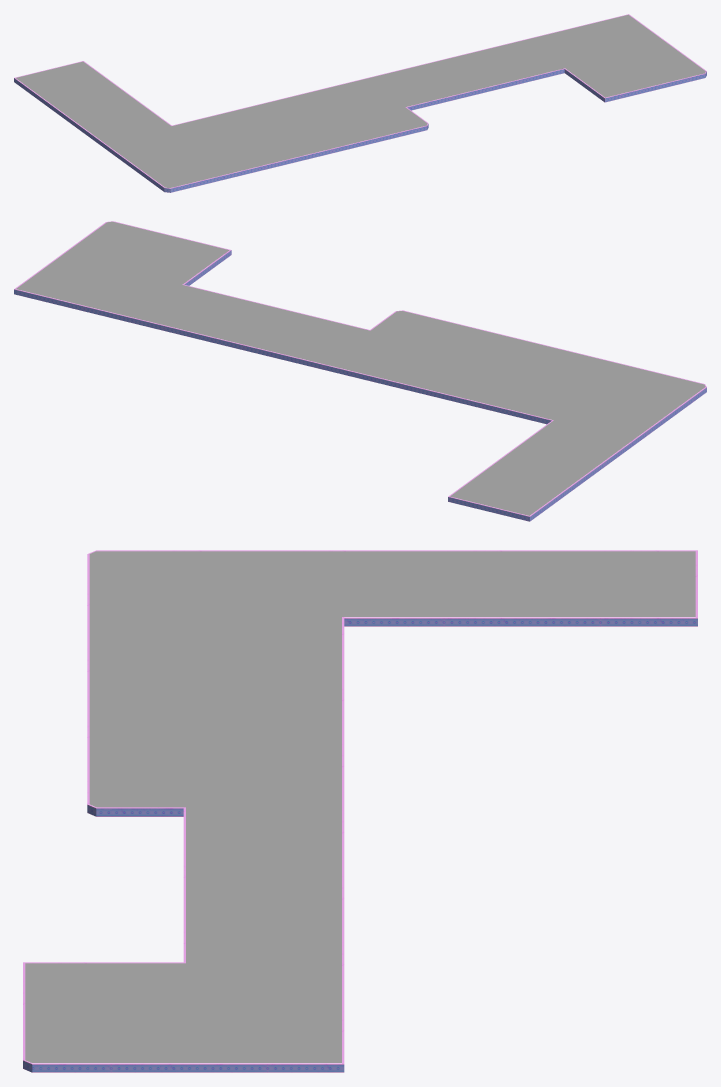
The model's file is BarracksOverhang_02_SM_Low.fbx.
The picture shows the model from 3 angles, top to bottom: view 1: azimuth 30°, elevation 25°; view 2: azimuth 150°, elevation 25°; view 3: azimuth 270°, elevation 25°; orthographic projection. The views are drawn at different scales.
Visible parts, largest first — view 1: GratedFloor, FloorSide; view 2: GratedFloor, FloorSide; view 3: GratedFloor, FloorSide.
Part boxes in pixels (x1=…): GratedFloor: x1=16, y1=14, x2=705, y2=187; FloorSide: x1=14, y1=14, x2=706, y2=192; GratedFloor: x1=16, y1=221, x2=705, y2=515; FloorSide: x1=14, y1=221, x2=706, y2=521; GratedFloor: x1=25, y1=551, x2=695, y2=1062; FloorSide: x1=23, y1=550, x2=697, y2=1072.
Size of the model in its own units: 2270 by 17.66 by 1260.
Materials: 2 (1 with a texture image).
